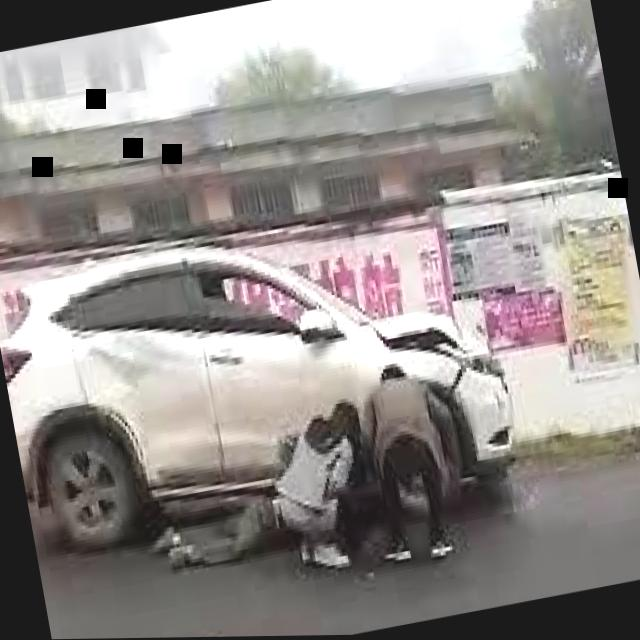Fall-Detected: (132, 462, 318, 589)
